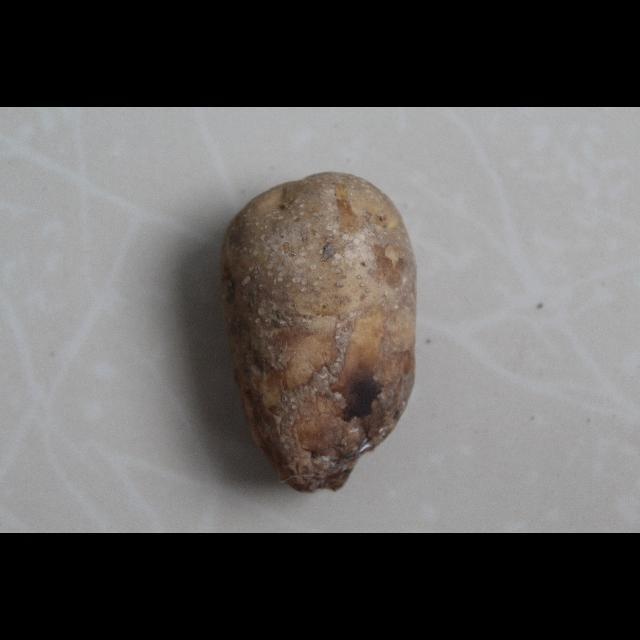Diseased-fungal potato: (212, 166, 420, 494)
